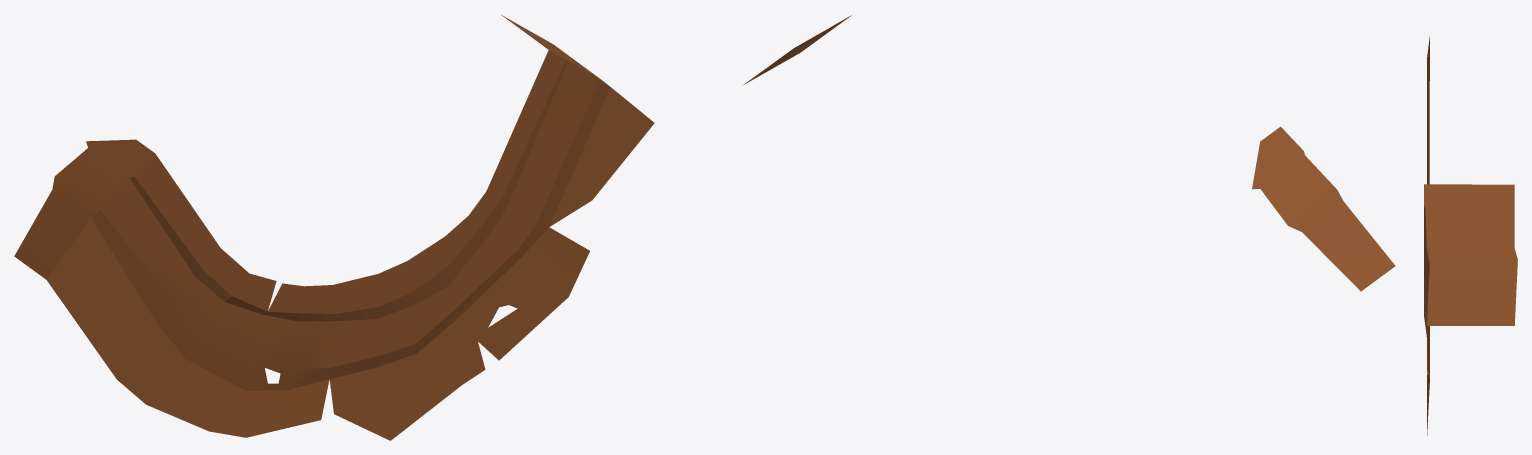
File: quaternius-ultimate-modular-ruins-flag-gothicarch.glb
3 views of the same model, side by side, from view 1: azimuth 30°, elevation 25°; view 2: azimuth 150°, elevation 25°; view 3: azimuth 270°, elevation 25° (orthographic). The views are drawn at different scales.
Visible parts, largest first — view 1: Flag_GothicArch; view 2: Flag_GothicArch; view 3: Flag_GothicArch.
Part boxes in pixels (x1,y1,x2,y2): Flag_GothicArch: [14, 15, 654, 440]; Flag_GothicArch: [744, 15, 1395, 291]; Flag_GothicArch: [1424, 36, 1517, 435].
Bounding box in the file's own units: 2.19 × 1.22 × 0.316.
